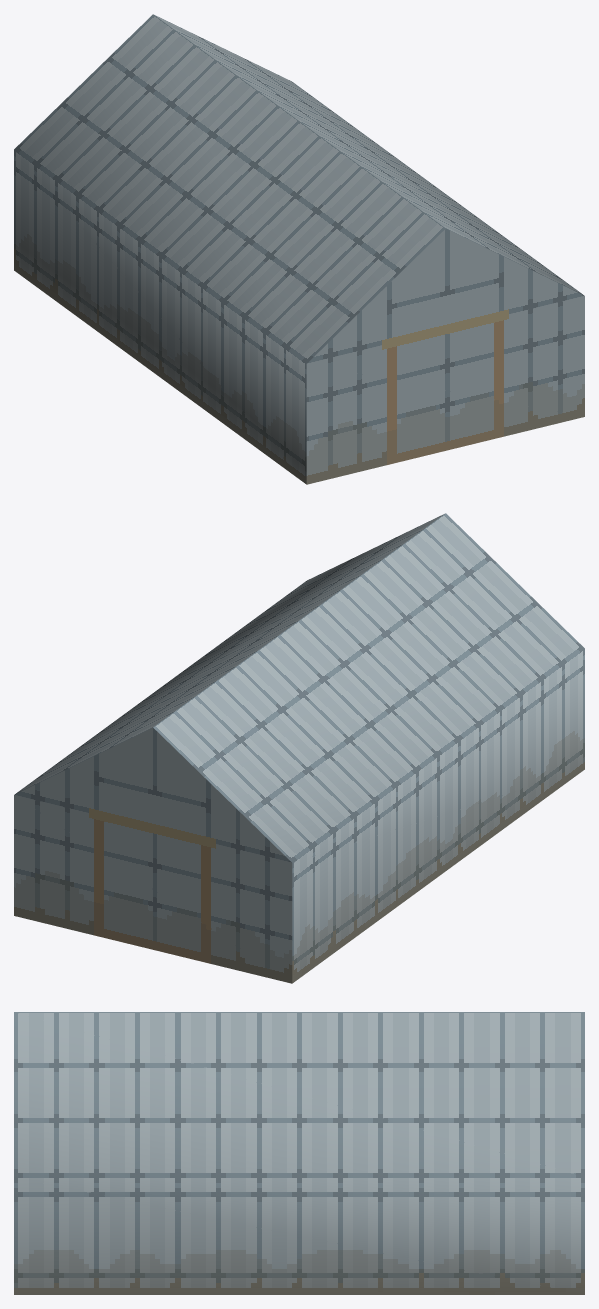
File: 00cd_Plastic_Greenhouse.glb
3 renders of one model, top to bottom at view 1: azimuth 30°, elevation 25°; view 2: azimuth 150°, elevation 25°; view 3: azimuth 270°, elevation 25°, orthographic. The views are drawn at different scales.
Visible parts, largest first — view 1: part_0; view 2: part_0; view 3: part_0.
Boxes of the visible parts, box(x1,y1,x2,y2) form: part_0: box(14, 14, 584, 484); part_0: box(14, 513, 584, 983); part_0: box(14, 1012, 584, 1294).
Size of the model in its own units: 4.94 by 3.77 by 9.
1 material, 1 textured.
